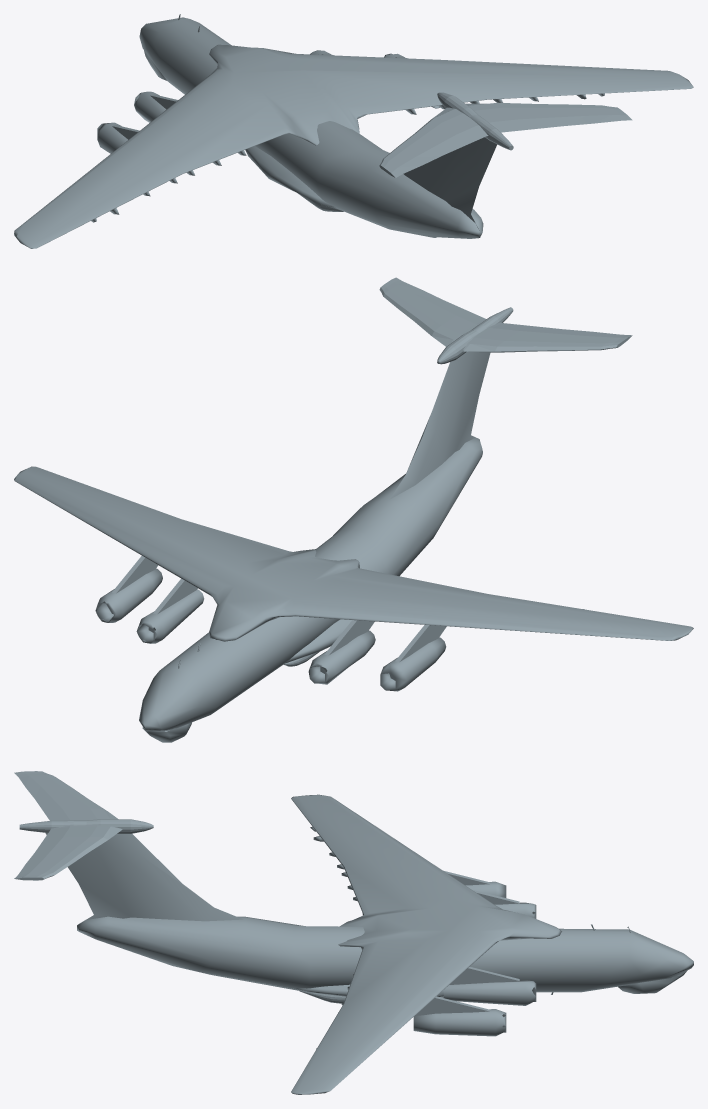
File: model-aircraft-tn-2.glb
The picture shows the model from 3 angles, top to bottom: view 1: azimuth 30°, elevation 25°; view 2: azimuth 150°, elevation 25°; view 3: azimuth 270°, elevation 25°; orthographic projection. The views are drawn at different scales.
Bounding box in the file's own units: 44.3 × 12.18 × 42.5.
